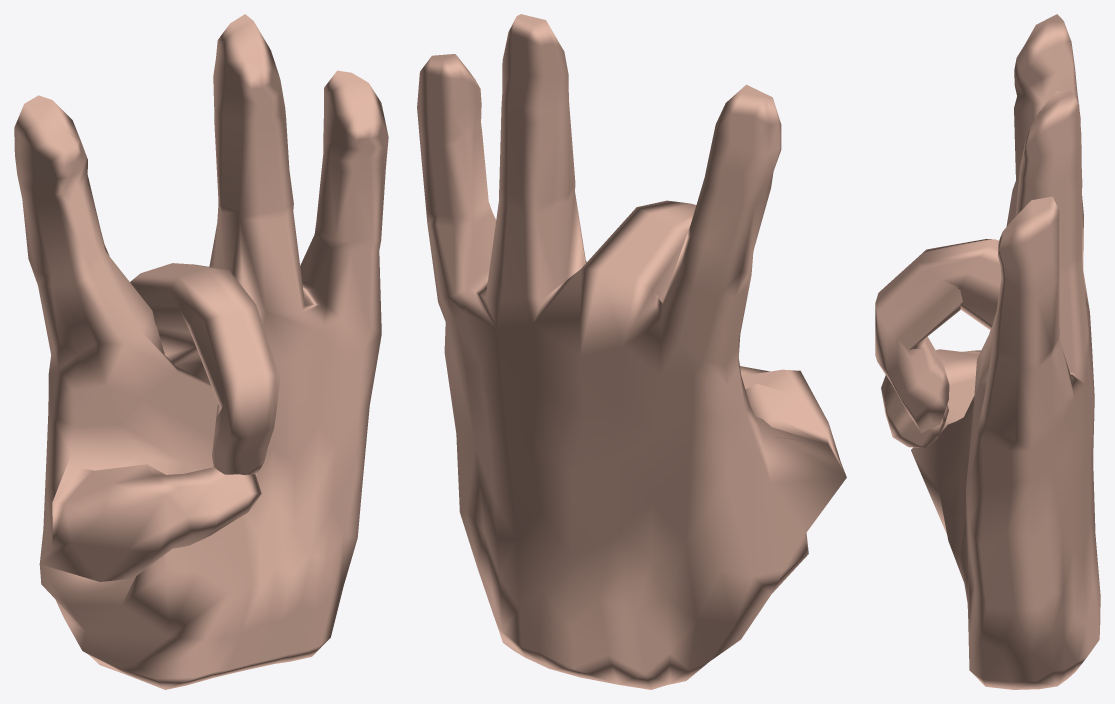
Rendered from MAO_SO.obj.
3 views of the same model, side by side, from view 1: azimuth 30°, elevation 25°; view 2: azimuth 150°, elevation 25°; view 3: azimuth 270°, elevation 25° (orthographic). The views are drawn at different scales.
Parts seen in each view (by area): view 1: mao_dir polySurface1; view 2: mao_dir polySurface1; view 3: mao_dir polySurface1.
Part boxes in pixels (<box>): mao_dir polySurface1: <box>14,14,388,689</box>; mao_dir polySurface1: <box>417,14,846,689</box>; mao_dir polySurface1: <box>875,14,1100,689</box>.
Bounding box in the file's own units: 147 × 234 × 81.83.
